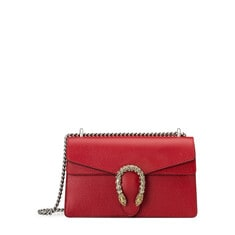Gucci: (58, 123, 212, 225), (109, 155, 158, 211)
